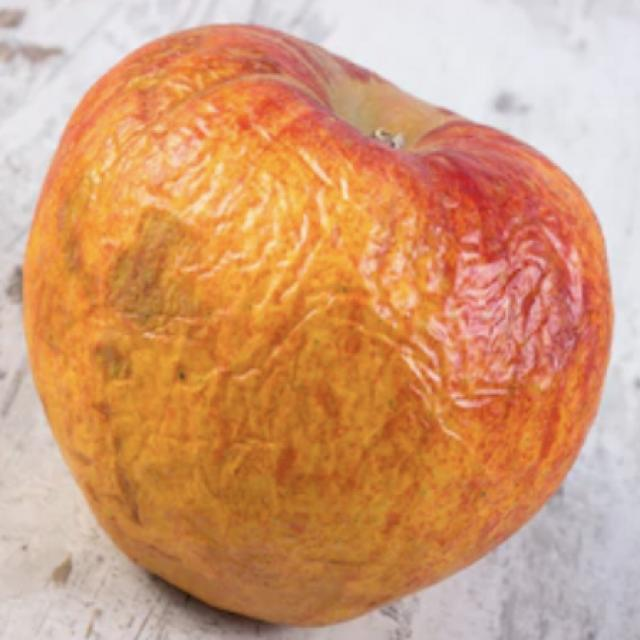Rotten: (56, 36, 608, 640)
